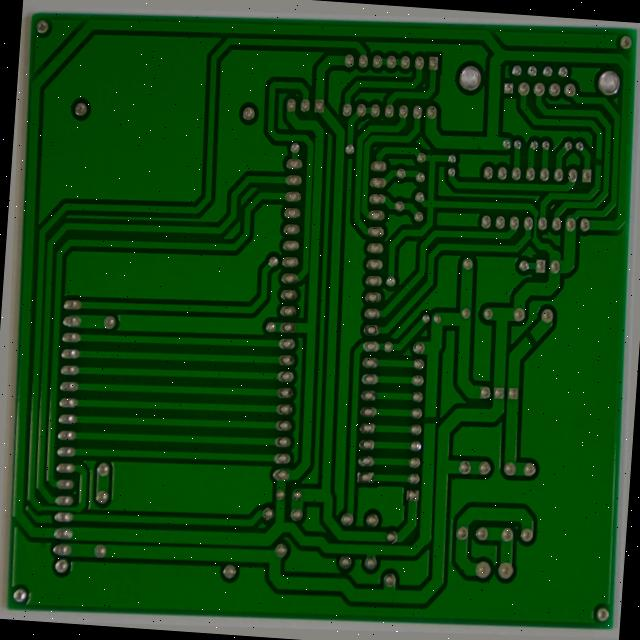open_circuit: (521, 332, 548, 362), (420, 417, 437, 439), (605, 158, 616, 176)
